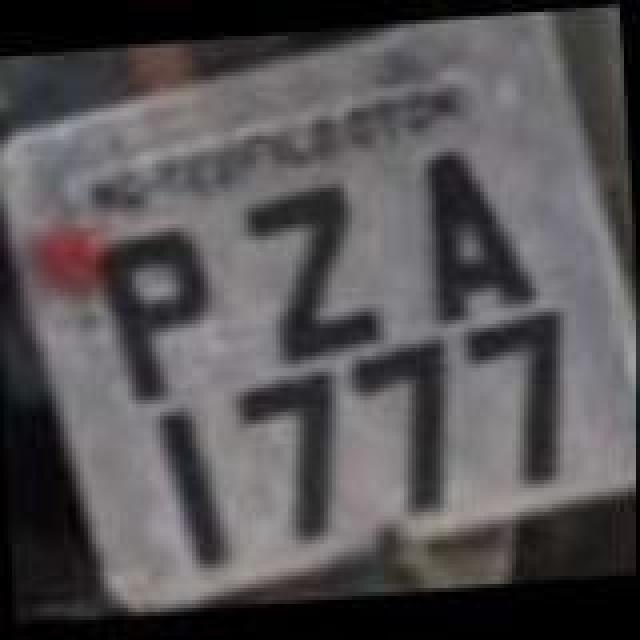1: (154, 398, 242, 574)
7: (344, 344, 460, 528), (460, 312, 576, 492), (238, 372, 350, 548)
A: (418, 142, 538, 326)
P: (94, 224, 222, 412)
Z: (246, 184, 390, 368)
